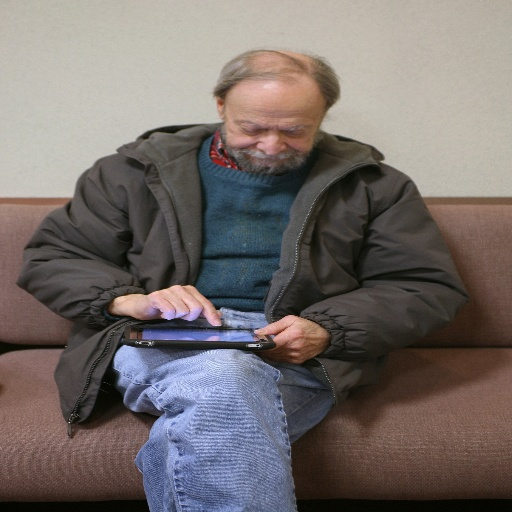hand: (125, 283, 223, 327), (264, 314, 332, 362)
